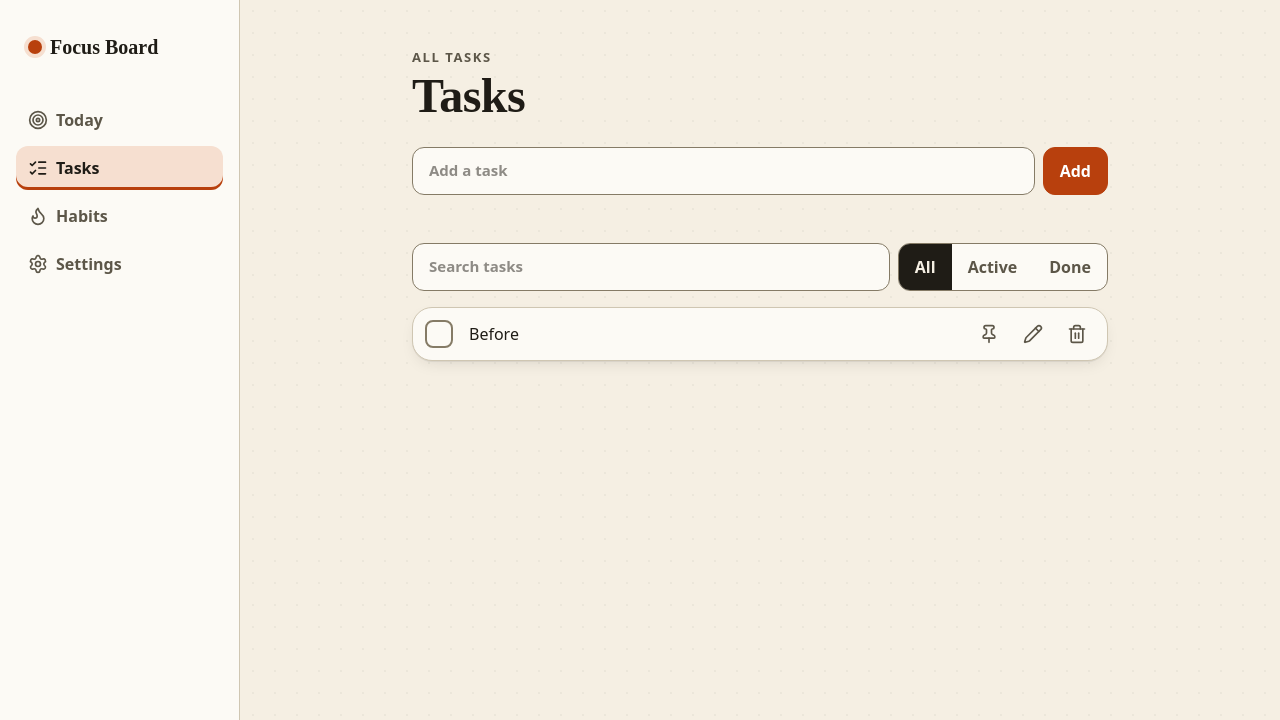
Test case: AC3: editing tasks › saves when focus leaves the row
Click the button named "Edit “Before”".
click(1033, 334)  # box [1011,312,1055,356]
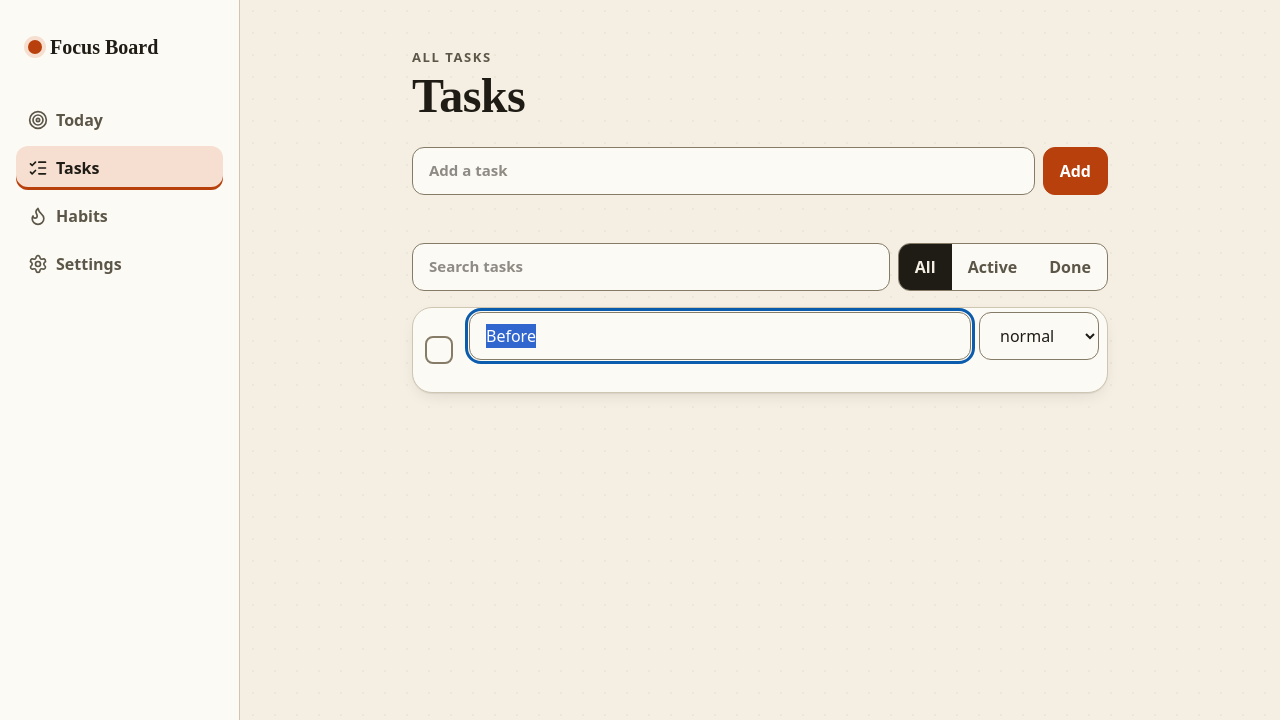
Replace the text in the field named "Task title" with "After" at {"x": 720, "y": 336}, box [469,312,971,360]
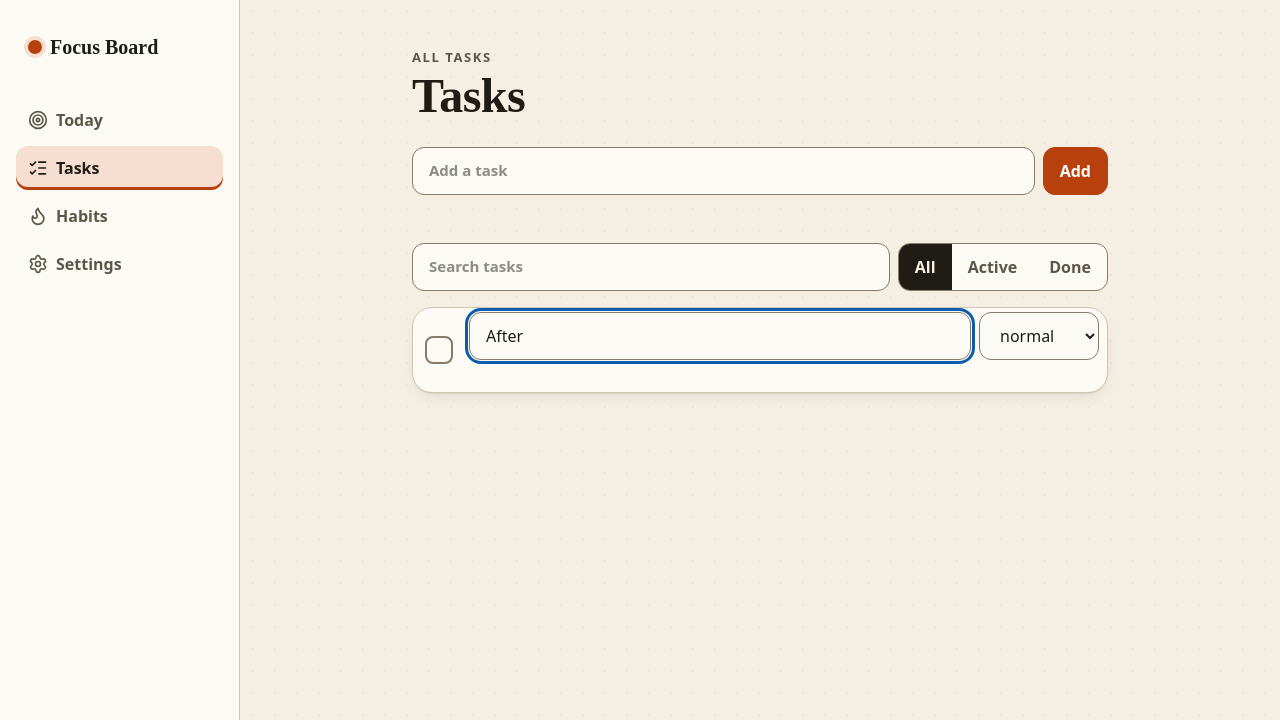
Click the field named "New task".
click(723, 171)  # box [412,147,1035,195]
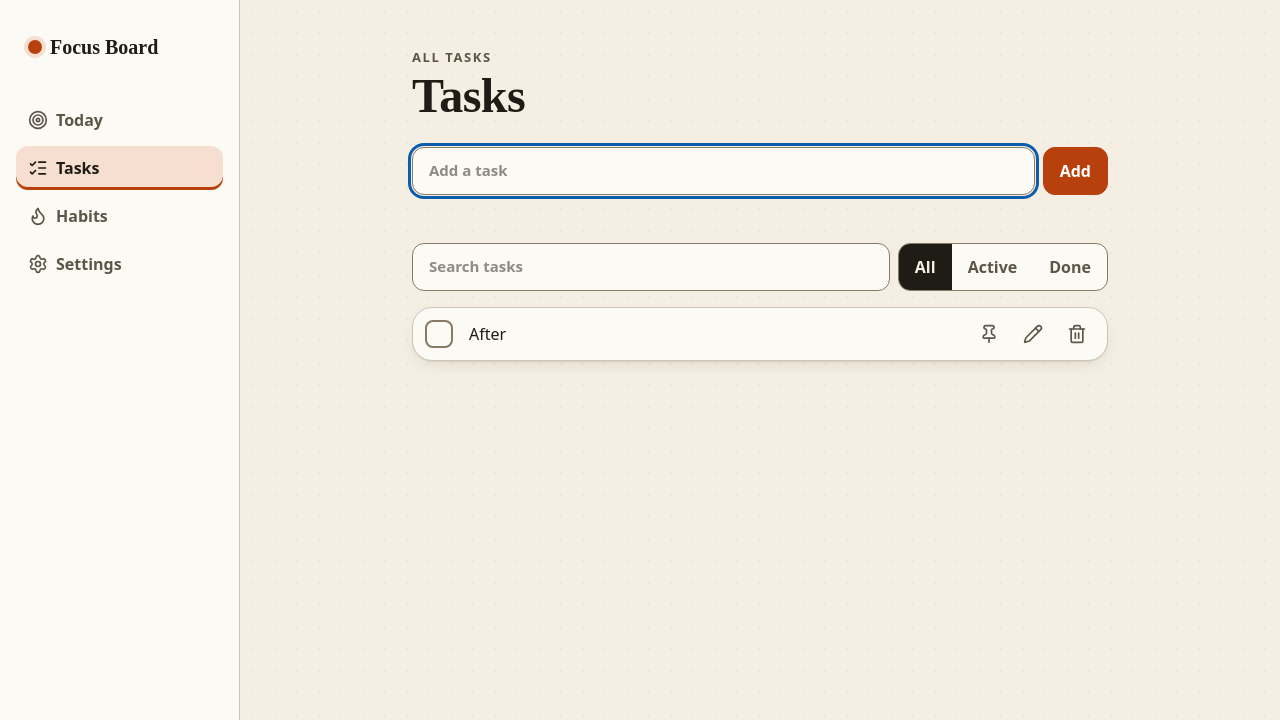
Result: the list named "Tasks" reads "After" at [469,323,506,345]
